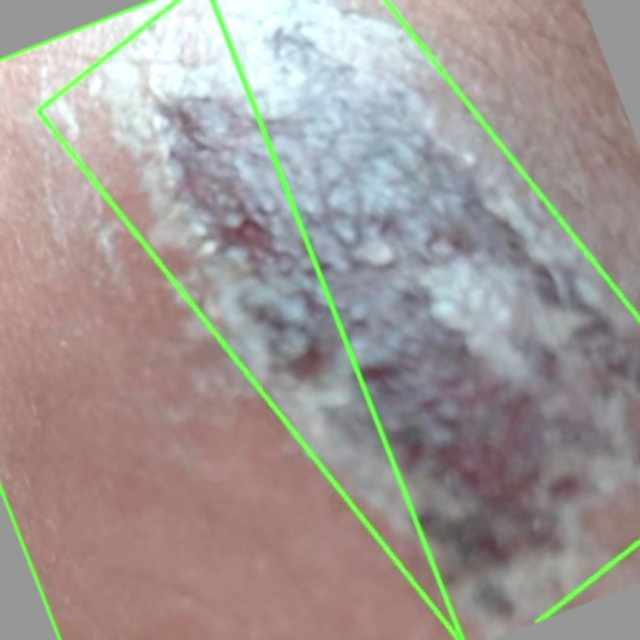Atopic Dermatitis: (39, 0, 639, 639), (0, 0, 462, 639)
